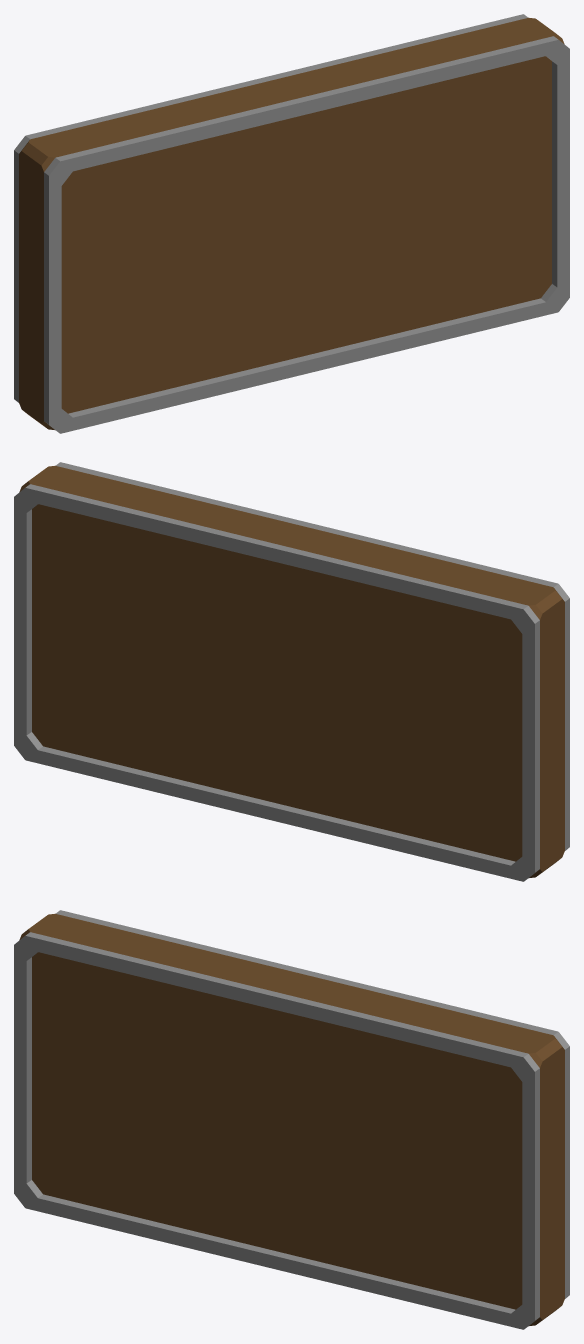
File: Rustic Sign.fbx
3 renders of one model, top to bottom at view 1: azimuth 30°, elevation 25°; view 2: azimuth 150°, elevation 25°; view 3: azimuth 330°, elevation 25°, orthographic.
Parts seen in each view (by area): view 1: Cube; view 2: Cube; view 3: Cube.
Part boxes in pixels (x1,y1,x2,y2): Cube: (14, 14, 569, 433); Cube: (14, 462, 569, 881); Cube: (14, 910, 569, 1329).
Bounding box in the file's own units: 115 × 57.6 × 13.44.
